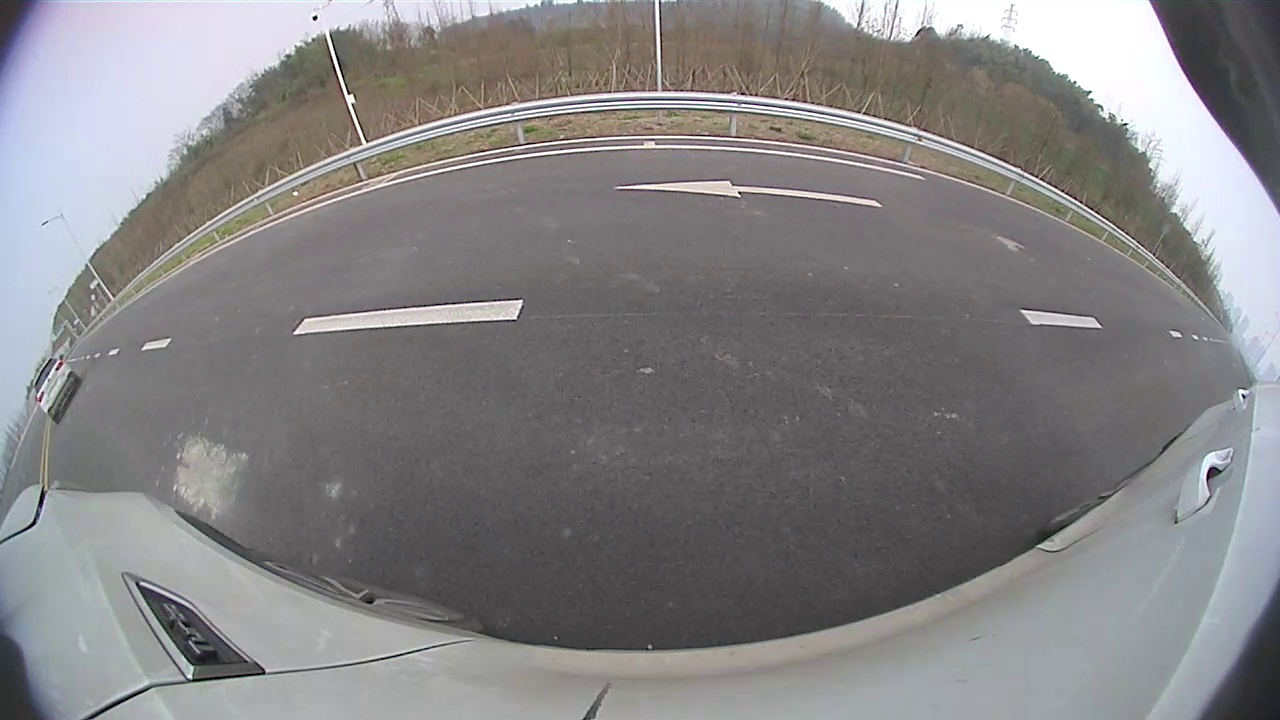car: (31, 356, 82, 426)
